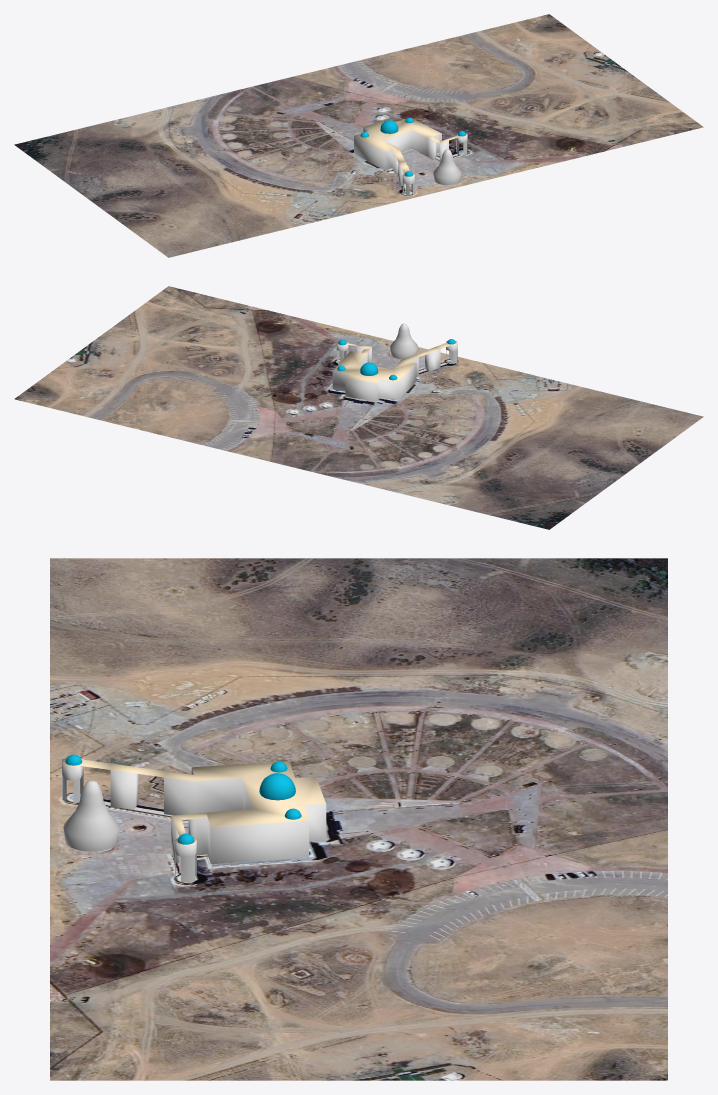
File: MavzoleyDjuchixana.glb
3 views of the same model, one above another, from view 1: azimuth 30°, elevation 25°; view 2: azimuth 150°, elevation 25°; view 3: azimuth 270°, elevation 25° (orthographic). The views are drawn at different scales.
Visible parts, largest first — view 1: EXPORT_GOOGLE_SAT_WM, Areas:building; view 2: EXPORT_GOOGLE_SAT_WM, Areas:building; view 3: EXPORT_GOOGLE_SAT_WM, Areas:building.
Part boxes in pixels (bbox=[...]): EXPORT_GOOGLE_SAT_WM: bbox=[14, 14, 703, 257]; Areas:building: bbox=[354, 117, 467, 195]; EXPORT_GOOGLE_SAT_WM: bbox=[14, 286, 703, 529]; Areas:building: bbox=[332, 323, 457, 401]; EXPORT_GOOGLE_SAT_WM: bbox=[50, 558, 667, 1080]; Areas:building: bbox=[62, 754, 326, 882].
Size of the model in its own units: 4.96e+07 by 2617817 by 2.48e+07.
5 materials, 1 textured.
